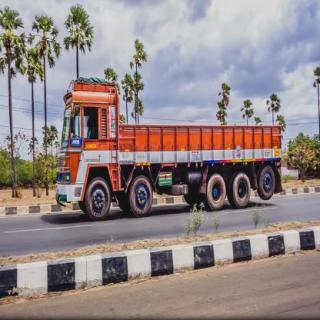Normal_vehicle: (48, 69, 287, 221)
